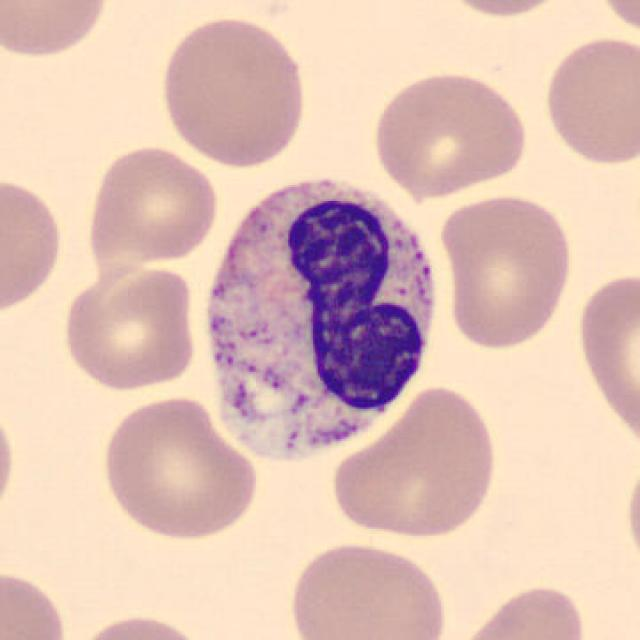Neutrophil: (192, 162, 450, 473)
RBC: (327, 381, 503, 543), (96, 391, 261, 543), (155, 11, 311, 169), (436, 190, 576, 352), (368, 67, 532, 199), (57, 261, 201, 395), (84, 141, 222, 270), (284, 536, 452, 640), (539, 32, 638, 169), (572, 261, 638, 458), (0, 171, 68, 321), (454, 580, 590, 640), (0, 0, 116, 62), (0, 564, 73, 640), (64, 610, 215, 640), (620, 444, 640, 584), (430, 0, 576, 19), (0, 395, 20, 527), (588, 0, 640, 41)
